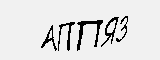А: (41, 24, 57, 52)
З: (116, 12, 132, 47)
П: (77, 18, 102, 51), (57, 21, 75, 51)
Я: (103, 17, 119, 48)
